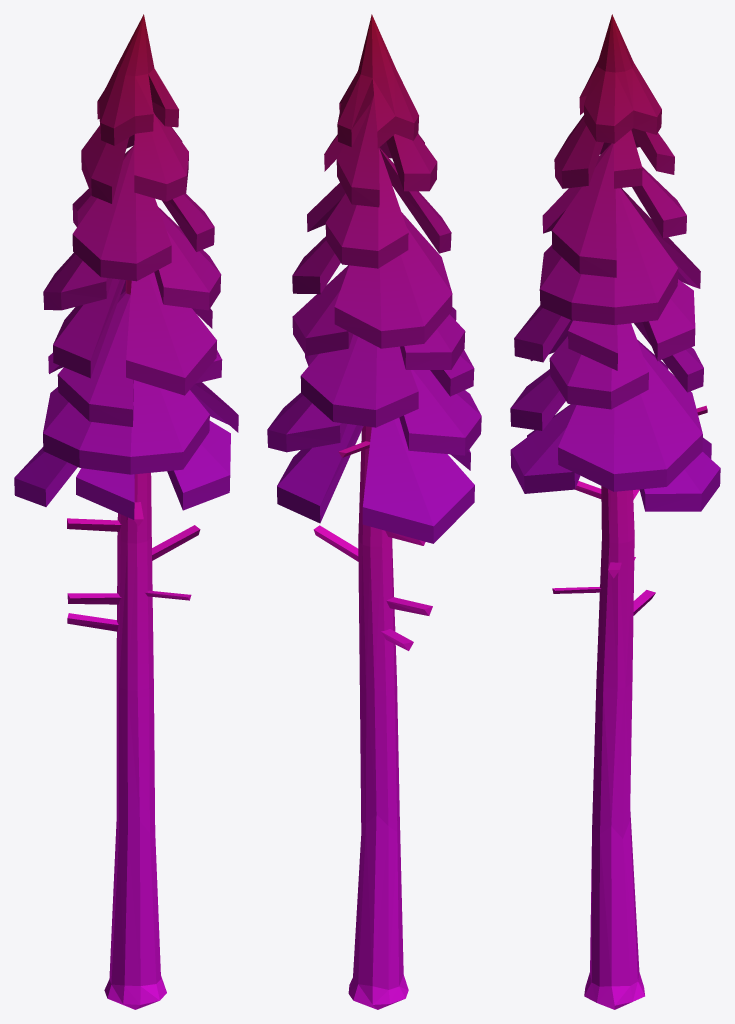
File: SM_Gen_Env_Tree_Pine_01.glb
The picture shows the model from 3 angles, left to right: view 1: azimuth 30°, elevation 25°; view 2: azimuth 150°, elevation 25°; view 3: azimuth 270°, elevation 25°; orthographic projection.
Visible parts, largest first — view 1: SM_Gen_Env_Tree_Pine_012; view 2: SM_Gen_Env_Tree_Pine_012; view 3: SM_Gen_Env_Tree_Pine_012.
Part boxes in pixels (bbox=[...]): SM_Gen_Env_Tree_Pine_012: bbox=[14, 14, 238, 1009]; SM_Gen_Env_Tree_Pine_012: bbox=[267, 14, 481, 1009]; SM_Gen_Env_Tree_Pine_012: bbox=[510, 14, 720, 1009].
Bounding box in the file's own units: 1.88 × 9.47 × 1.81.
